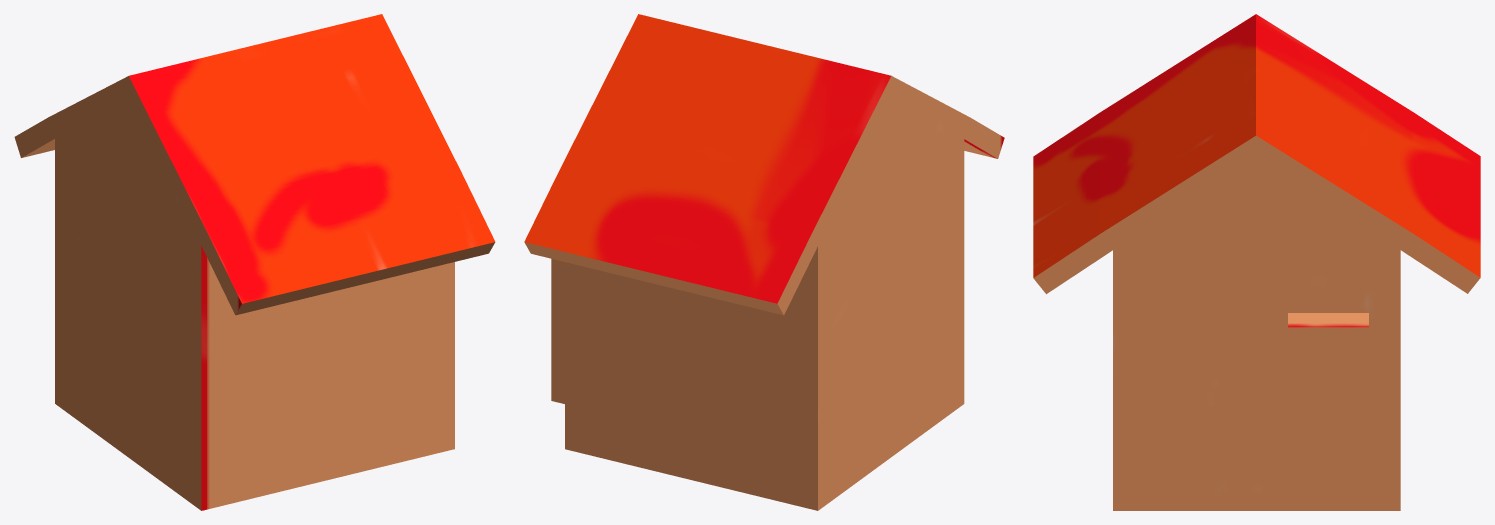
The model's file is house.glb.
The picture shows the model from 3 angles, left to right: view 1: azimuth 30°, elevation 25°; view 2: azimuth 150°, elevation 25°; view 3: azimuth 270°, elevation 25°; orthographic projection.
Parts seen in each view (by area): view 1: Cube; view 2: Cube; view 3: Cube.
Part boxes in pixels (left/top/right/bottom): Cube: left=14, top=14, right=495, bottom=510; Cube: left=524, top=14, right=1004, bottom=510; Cube: left=1033, top=14, right=1480, bottom=510.
Size of the model in its own units: 2.23 by 2.88 by 3.11.
Materials: 1 (1 with a texture image).
